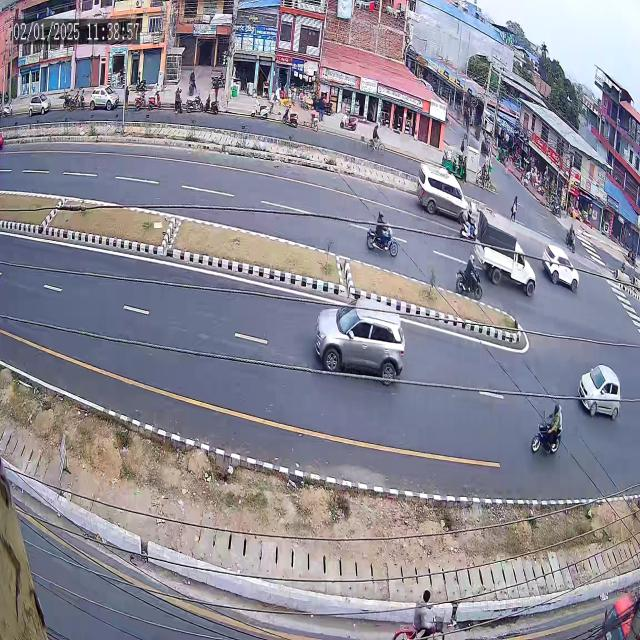car: (300, 271, 411, 401), (570, 354, 626, 424), (540, 234, 580, 302)
motorcycle: (518, 382, 562, 461), (366, 204, 403, 260), (452, 245, 482, 302)
